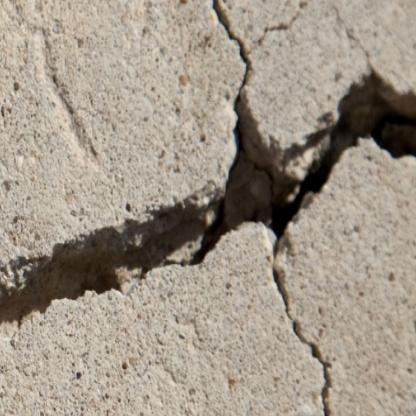Cracks: (0, 0, 416, 416), (256, 24, 293, 48)
